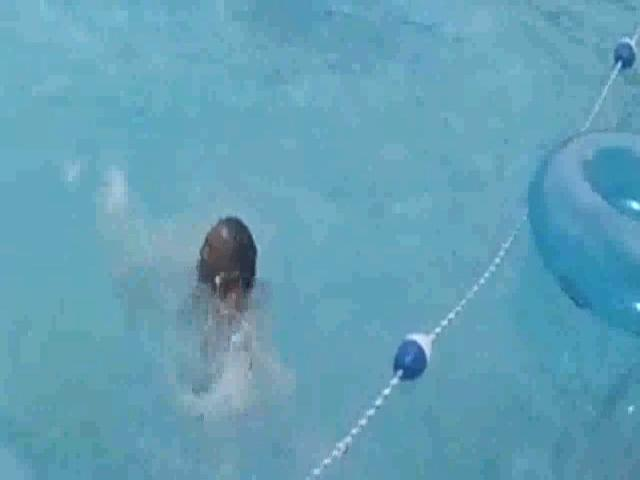drowning: (133, 186, 282, 408)
